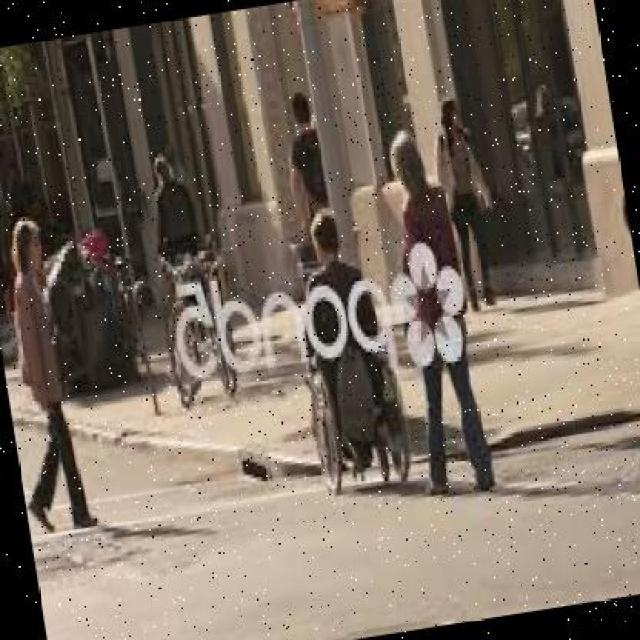obstacle: (375, 125, 497, 497), (274, 198, 417, 498), (0, 214, 98, 540), (427, 94, 508, 309)
